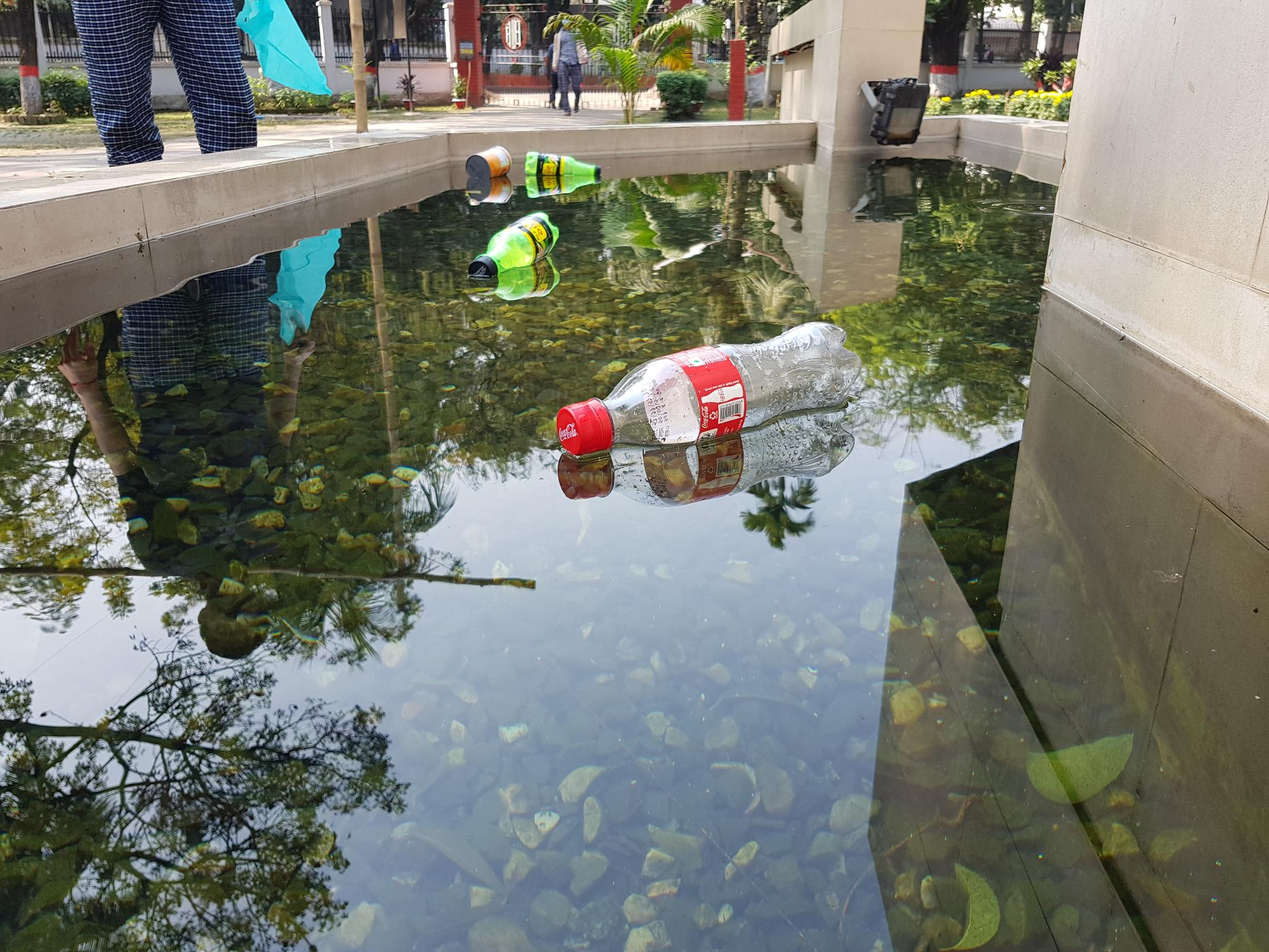trash_plastic: (551, 320, 866, 473), (466, 210, 565, 281), (525, 151, 605, 186), (468, 147, 507, 183)
